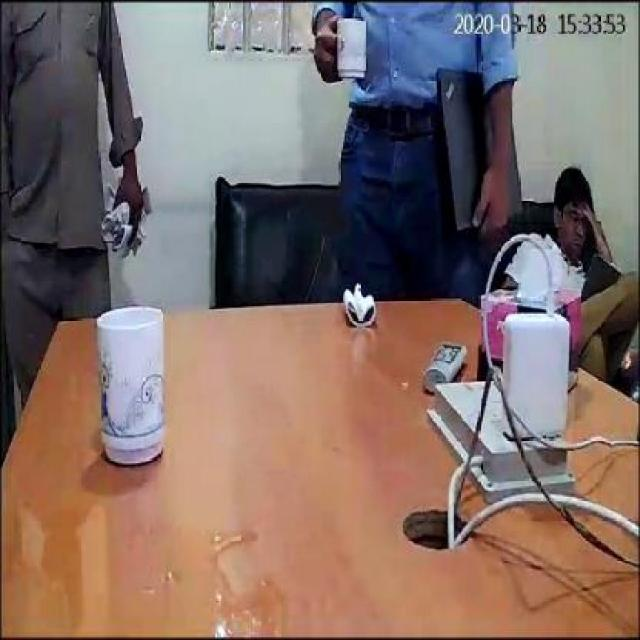spill: (41, 498, 278, 632)
